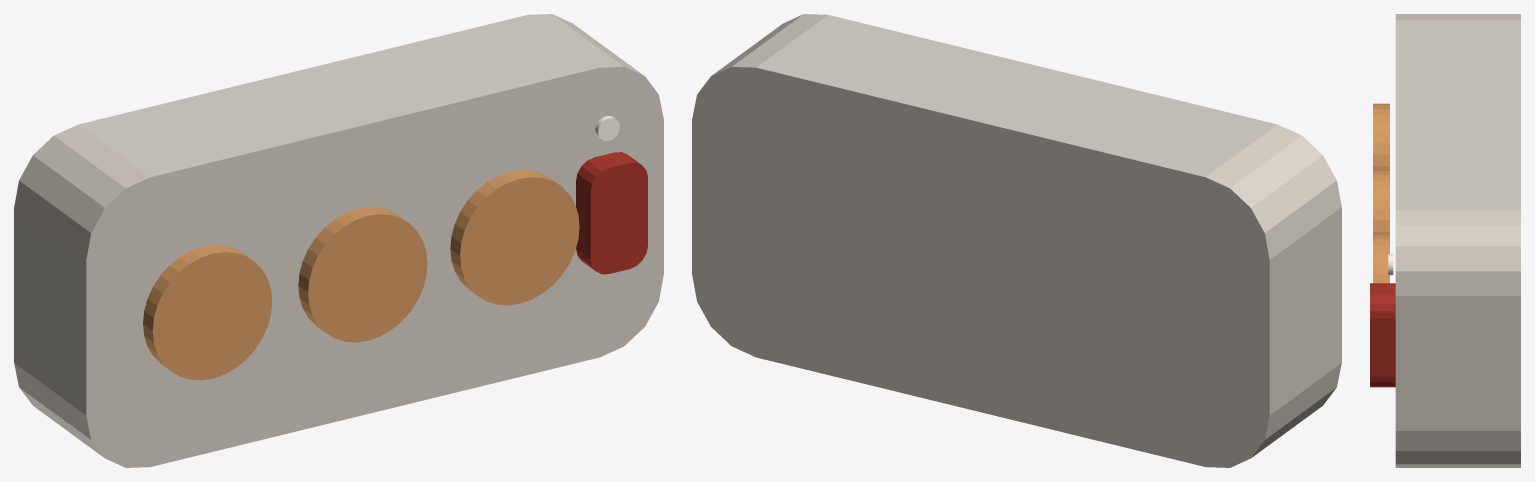
Rendered from powerstrip.glb.
3 renders of one model, left to right at view 1: azimuth 30°, elevation 25°; view 2: azimuth 150°, elevation 25°; view 3: azimuth 270°, elevation 25°, orthographic. The views are drawn at different scales.
Parts seen in each view (by area): view 1: case, socket-0.52, socket-0.06, socket0.39, switch; view 2: case; view 3: case, switch, socket-0.52, socket-0.06, socket0.39.
Part boxes in pixels (x1,y1,x2,y2): case: (14, 14, 663, 467); socket-0.52: (143, 245, 272, 380); socket-0.06: (298, 207, 427, 342); socket0.39: (450, 170, 579, 305); switch: (576, 152, 647, 274); case: (692, 14, 1341, 467); case: (1395, 14, 1520, 467); switch: (1370, 283, 1395, 387); socket-0.52: (1373, 103, 1389, 169); socket-0.06: (1373, 169, 1389, 233); socket0.39: (1373, 234, 1389, 283).
Bounding box in the file's own units: 1.71 × 0.82 × 0.4455.
